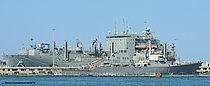MIL_Ship: (49, 31, 202, 75)
